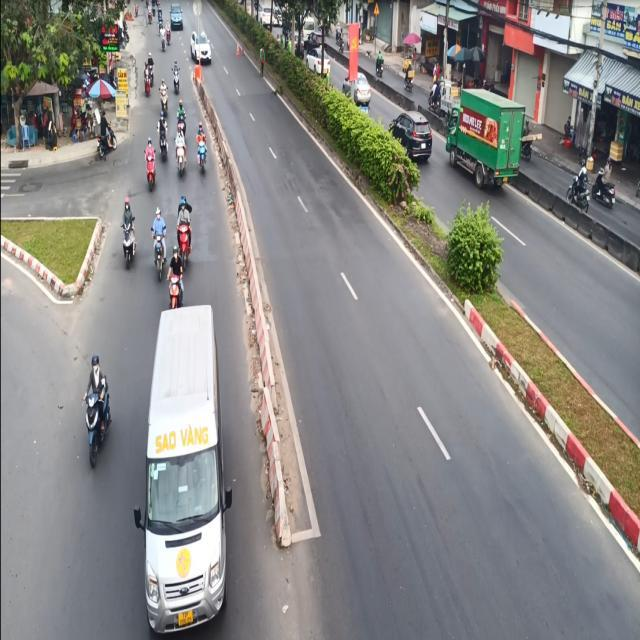car: (133, 303, 232, 634), (389, 109, 437, 170), (183, 26, 217, 71), (340, 67, 372, 105), (169, 2, 189, 32)
motorcycle: (82, 381, 111, 468), (172, 223, 193, 267), (153, 232, 169, 286), (120, 220, 136, 269), (592, 180, 618, 210), (566, 184, 590, 212), (167, 276, 186, 310)
person: (87, 354, 113, 406), (169, 246, 187, 278), (152, 207, 169, 240), (599, 158, 616, 185), (121, 198, 136, 228), (575, 156, 589, 188), (146, 138, 158, 162)
truck: (443, 86, 528, 190)
